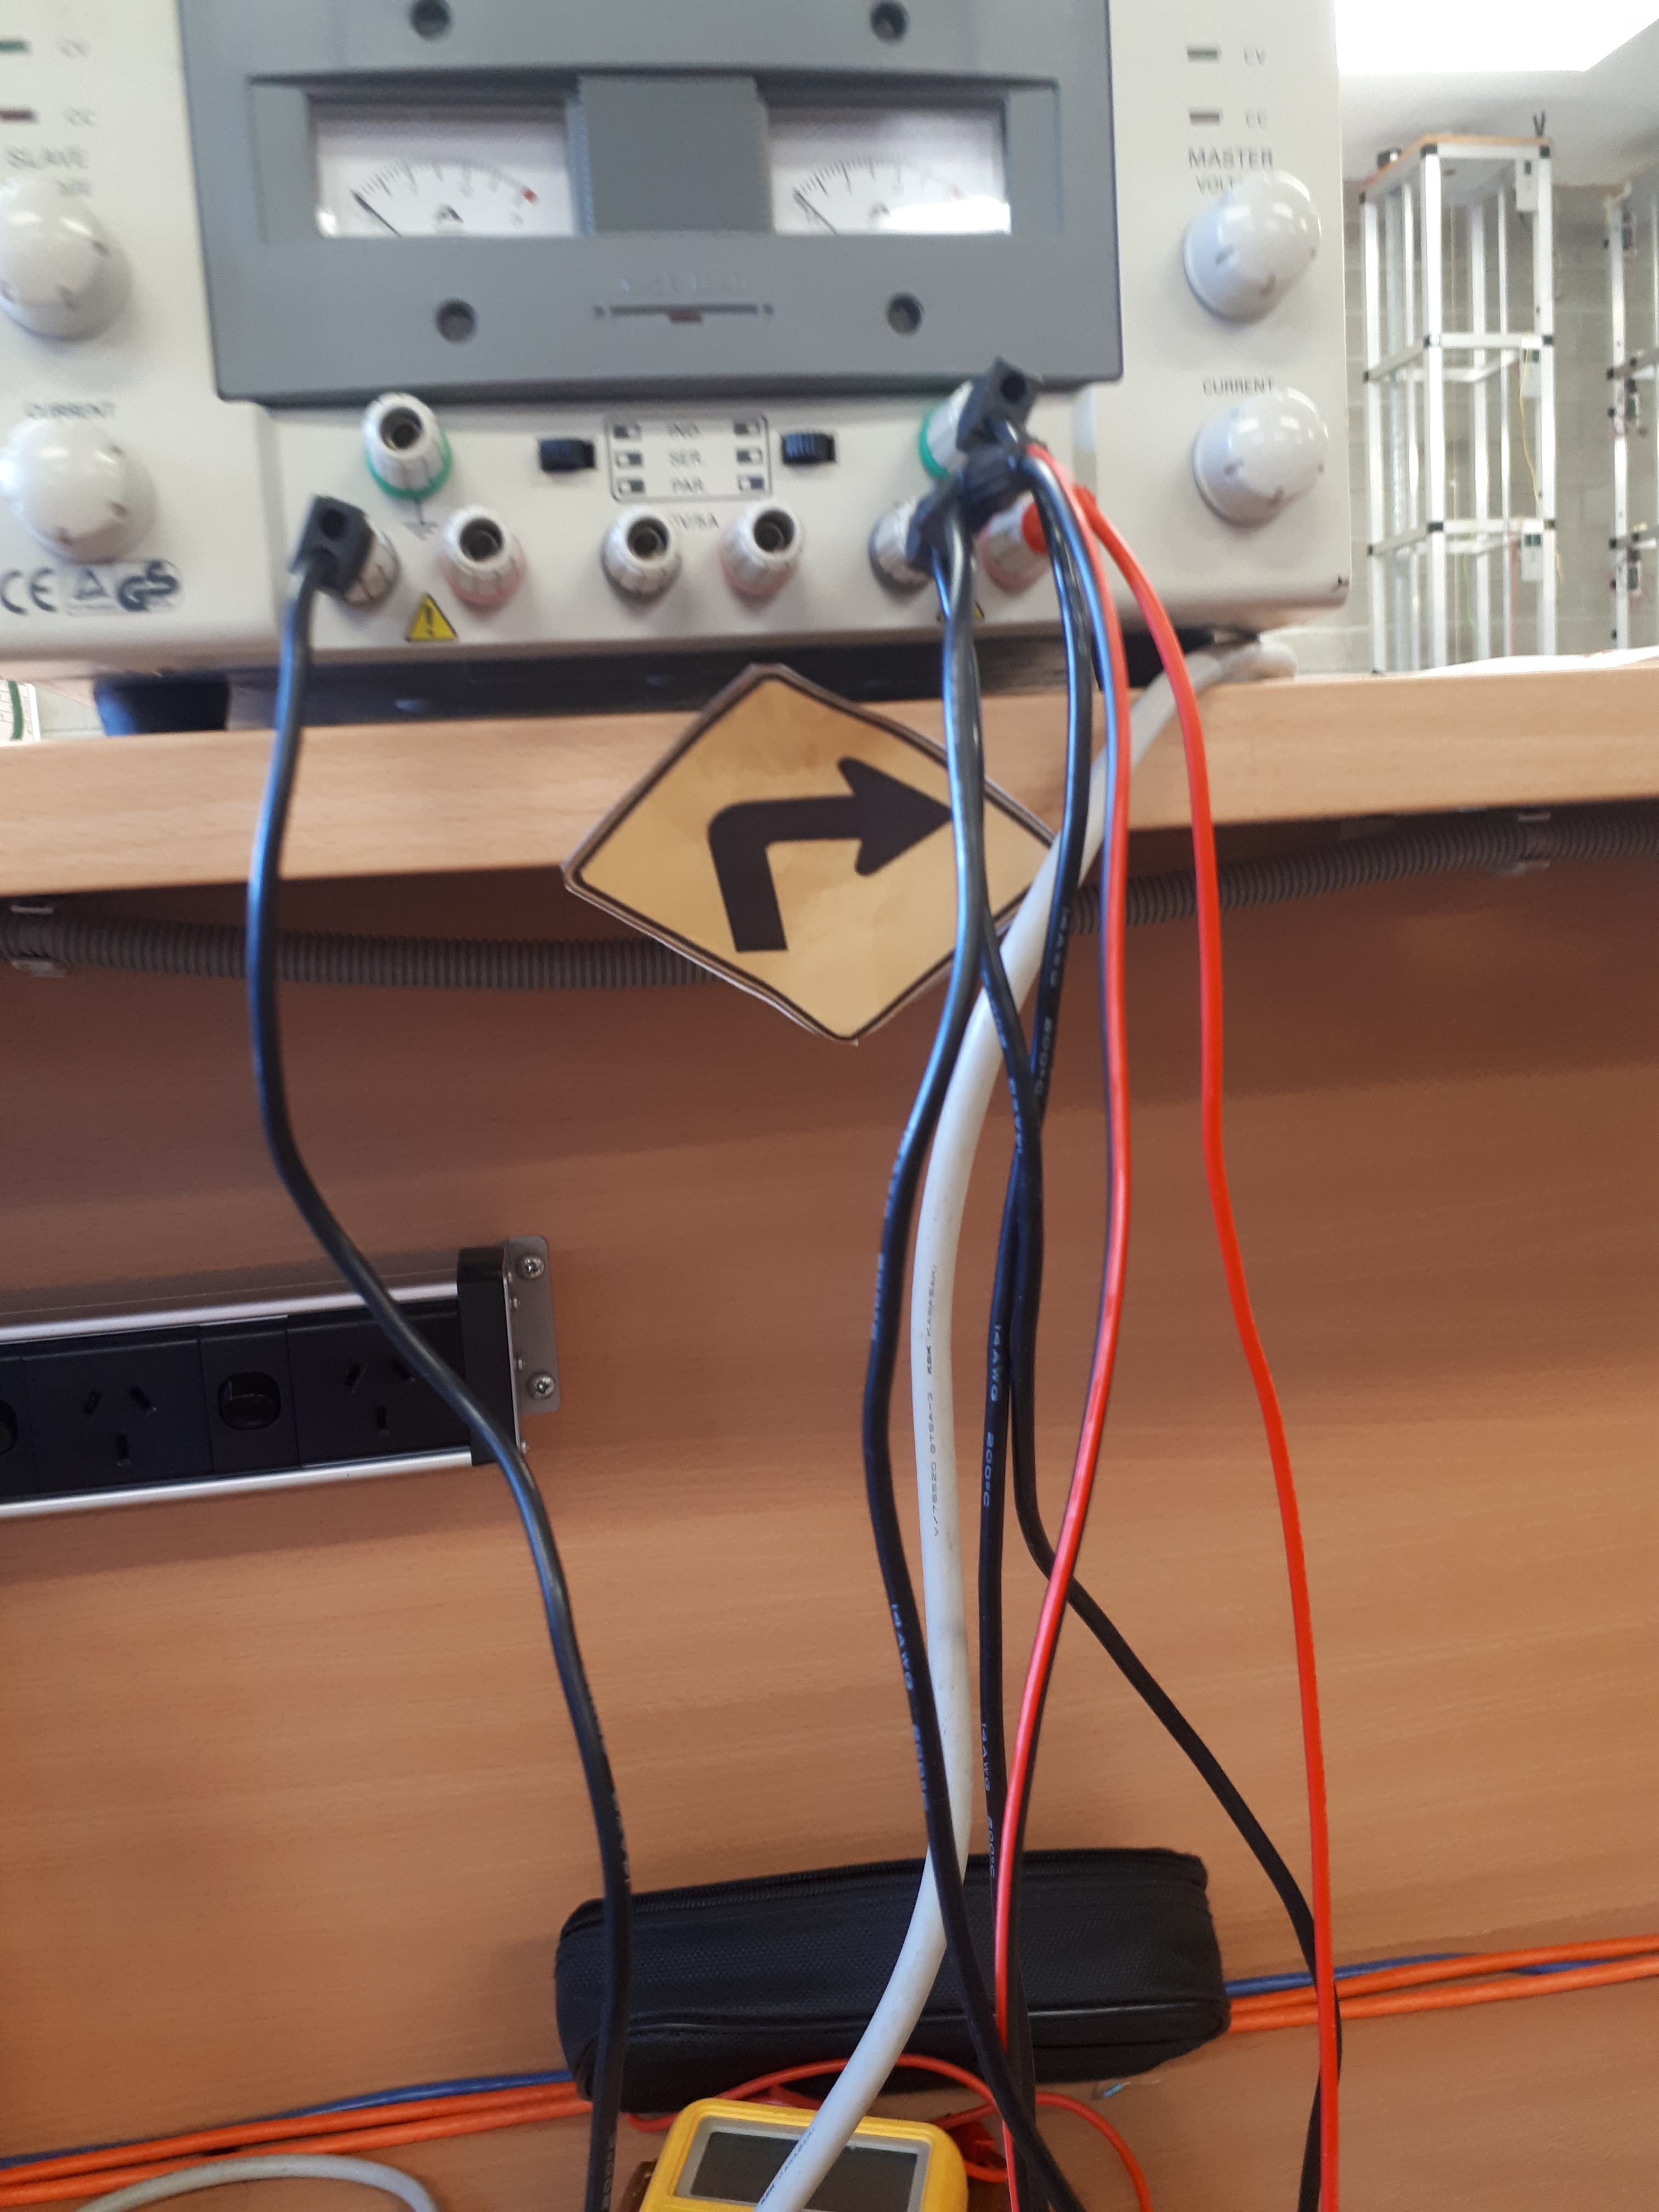right: (525, 650, 1147, 1049), (701, 725, 978, 897), (795, 686, 985, 906)
